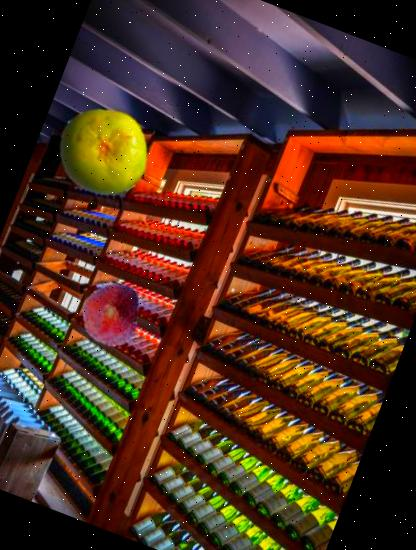Pomelo: (44, 93, 164, 212)
Salak: (69, 274, 150, 356)
